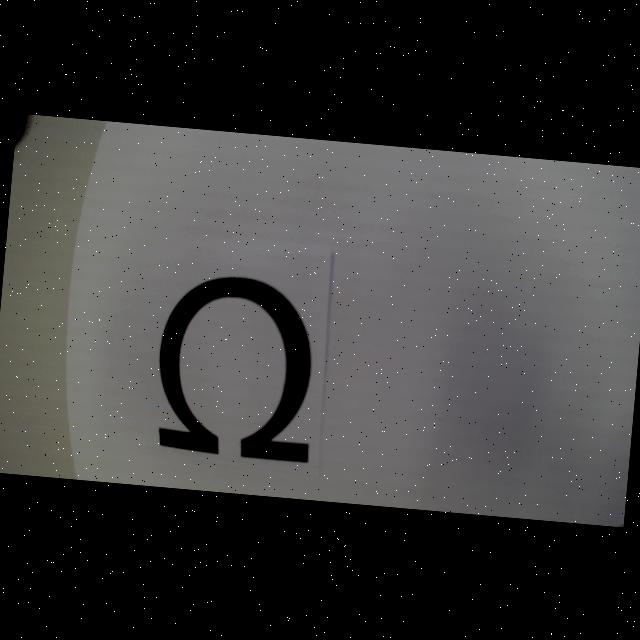OMEGA: (150, 270, 323, 464)
